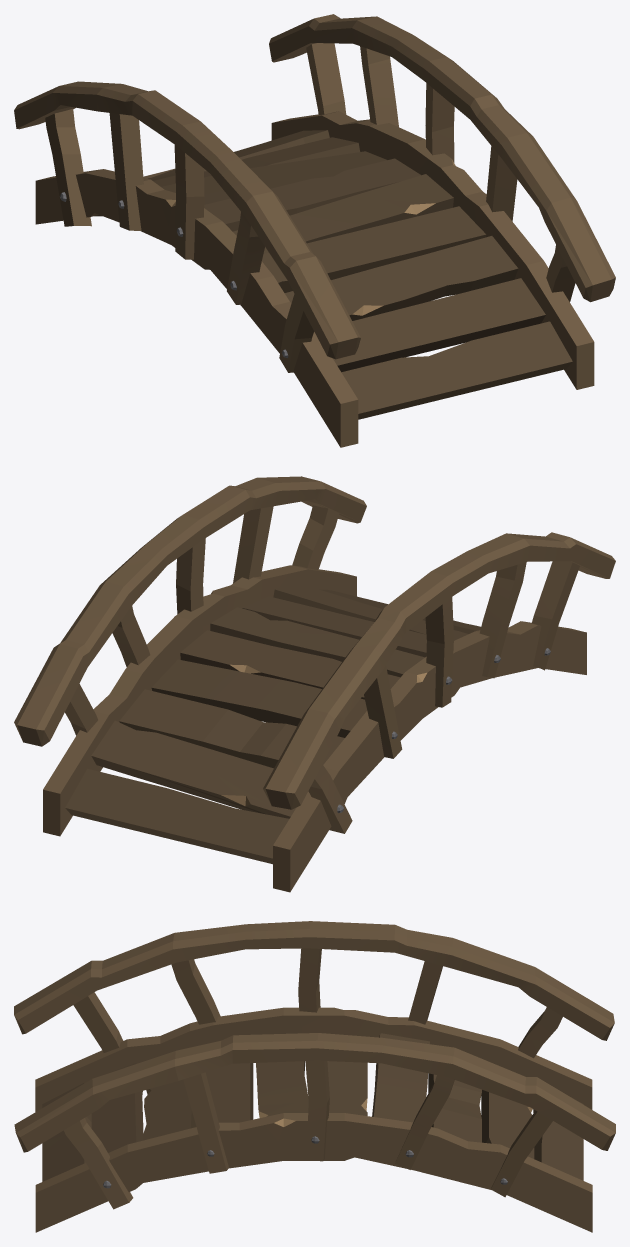
The model's file is bridge.glb.
The picture shows the model from 3 angles, top to bottom: view 1: azimuth 30°, elevation 25°; view 2: azimuth 150°, elevation 25°; view 3: azimuth 270°, elevation 25°; orthographic projection. The views are drawn at different scales.
Parts seen in each view (by area): view 1: SM_Env_Bridge_01; view 2: SM_Env_Bridge_01; view 3: SM_Env_Bridge_01.
Boxes of the visible parts, x1,y1,x2,y2 form: SM_Env_Bridge_01: (14,14,615,447); SM_Env_Bridge_01: (14,476,615,892); SM_Env_Bridge_01: (14,921,615,1232).
Bounding box in the file's own units: 306 × 213 × 594.
1 material, 1 textured.
